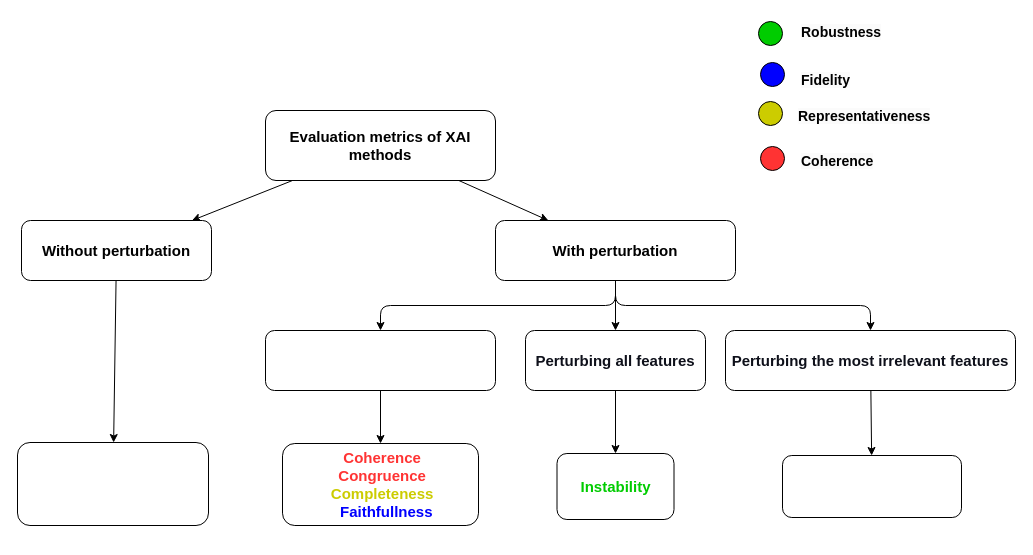
Some shapes in this 1033 by 555 pixel diagram are drawn without their labels. The centre of each missing label's shape, as x and y in pixels:
"Acumen" belongs at [872,486].
"Identity Separability Stability" belongs at [112,484].
"Perturbing the most relevent features" belongs at [380,360].
